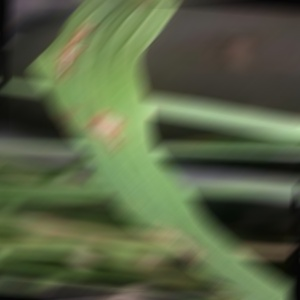Brown_Spot: (135, 225, 209, 275), (78, 109, 139, 157), (49, 34, 84, 76), (47, 103, 83, 143), (52, 19, 95, 43)
